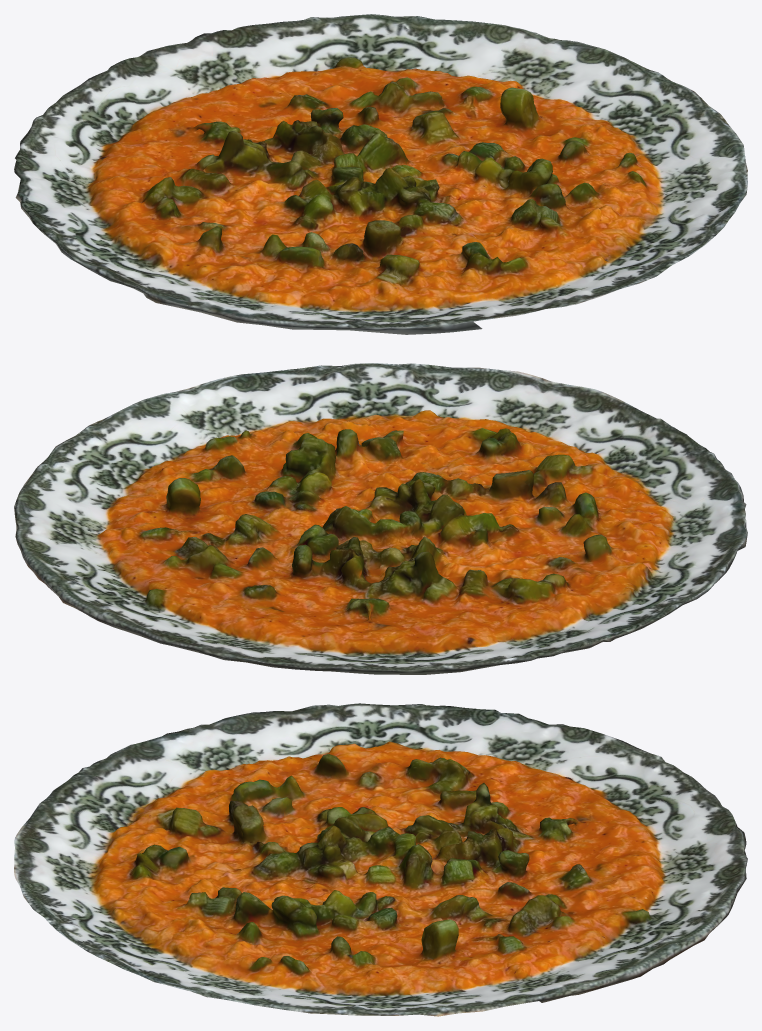
File: biberve.glb
3 renders of one model, top to bottom at view 1: azimuth 30°, elevation 25°; view 2: azimuth 150°, elevation 25°; view 3: azimuth 270°, elevation 25°, orthographic.
Bounding box in the file's own units: 0.8331 × 0.0695 × 0.8287.
Materials: 1 (1 with a texture image).
